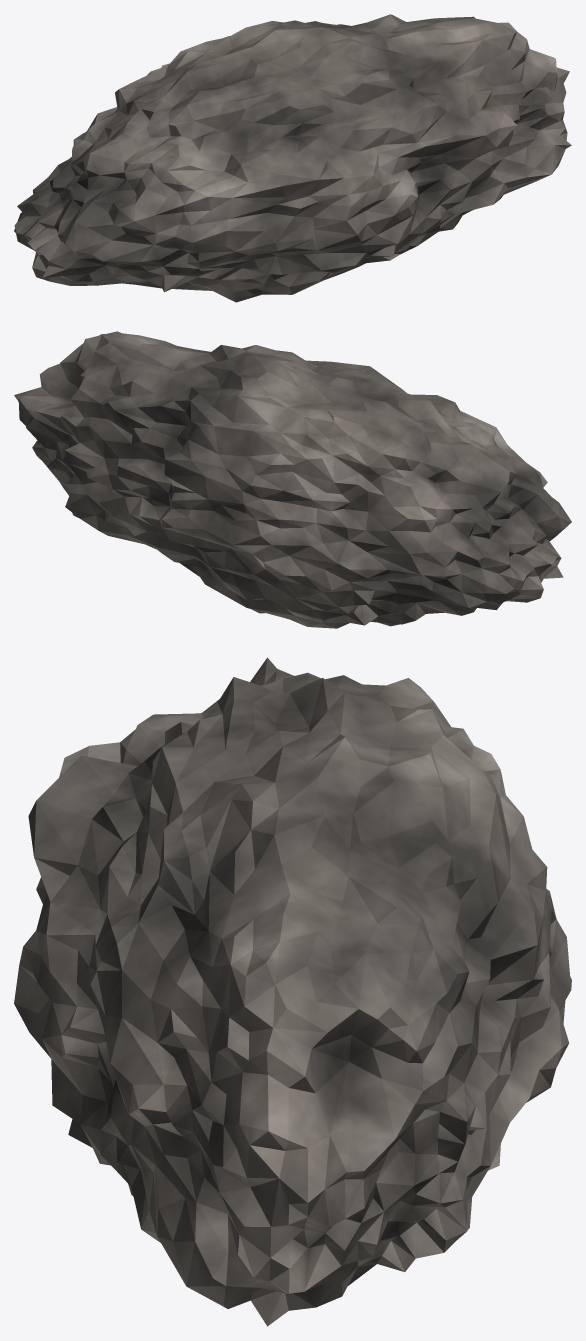
Rendered from Asteroide5.fbx.
The picture shows the model from 3 angles, top to bottom: view 1: azimuth 30°, elevation 25°; view 2: azimuth 150°, elevation 25°; view 3: azimuth 270°, elevation 25°; orthographic projection. The views are drawn at different scales.
Visible parts, largest first — view 1: Asteroide5; view 2: Asteroide5; view 3: Asteroide5.
Part boxes in pixels (<box>): Asteroide5: <box>14,14,571,302</box>; Asteroide5: <box>14,331,571,628</box>; Asteroide5: <box>14,657,571,1326</box>.
Bounding box in the file's own units: 197 × 82.08 × 91.46.
